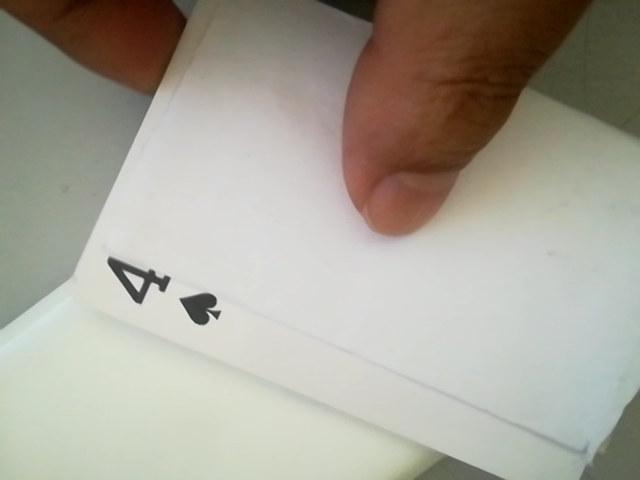ht 4: (85, 251, 251, 342)
